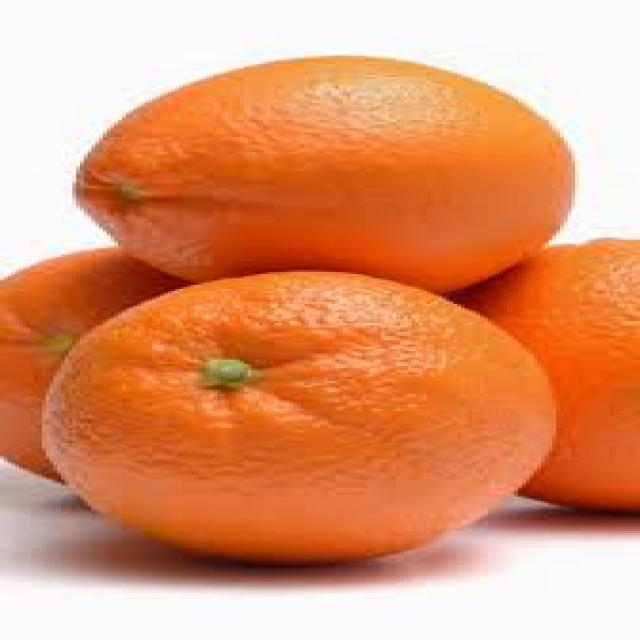orange: (38, 274, 560, 572), (75, 56, 569, 288), (452, 237, 631, 508), (2, 247, 192, 482)
